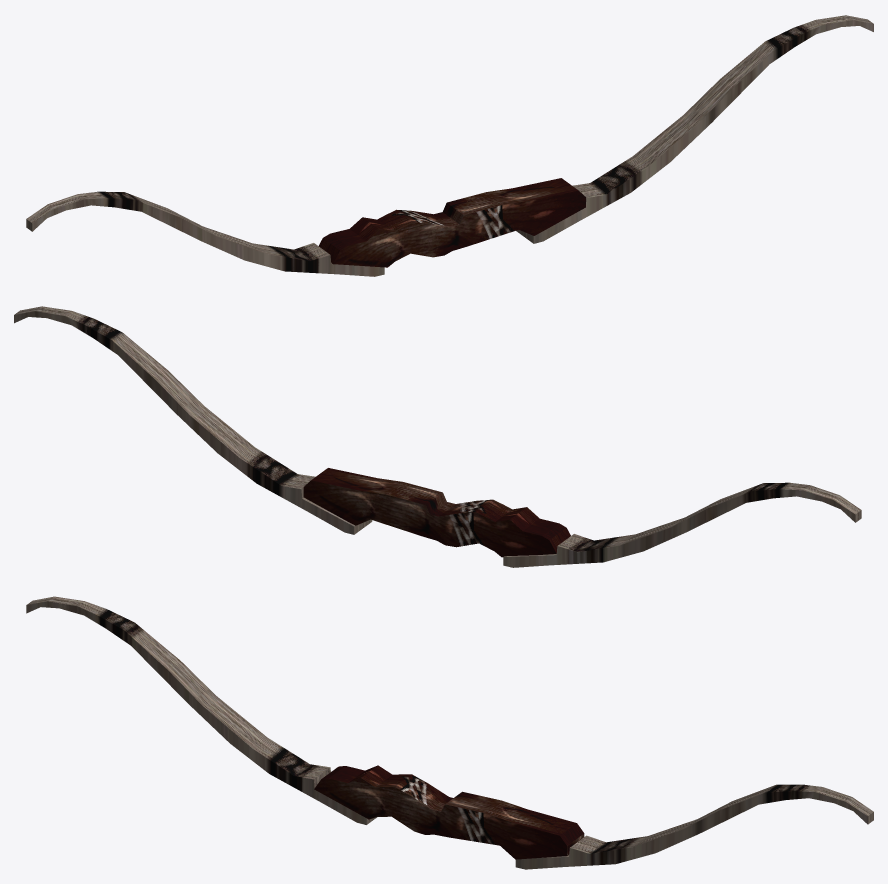
The picture shows the model from 3 angles, top to bottom: view 1: azimuth 30°, elevation 25°; view 2: azimuth 150°, elevation 25°; view 3: azimuth 330°, elevation 25°; orthographic projection.
Visible parts, largest first — view 1: it10412; view 2: it10412; view 3: it10412.
Boxes of the visible parts, left/top/right/bottom form: it10412: left=26, top=15, right=873, bottom=276; it10412: left=14, top=306, right=861, bottom=567; it10412: left=26, top=596, right=873, bottom=869.
Size of the model in its own units: 5.5 by 0.9111 by 0.2053.
Materials: 3 (2 with a texture image).
